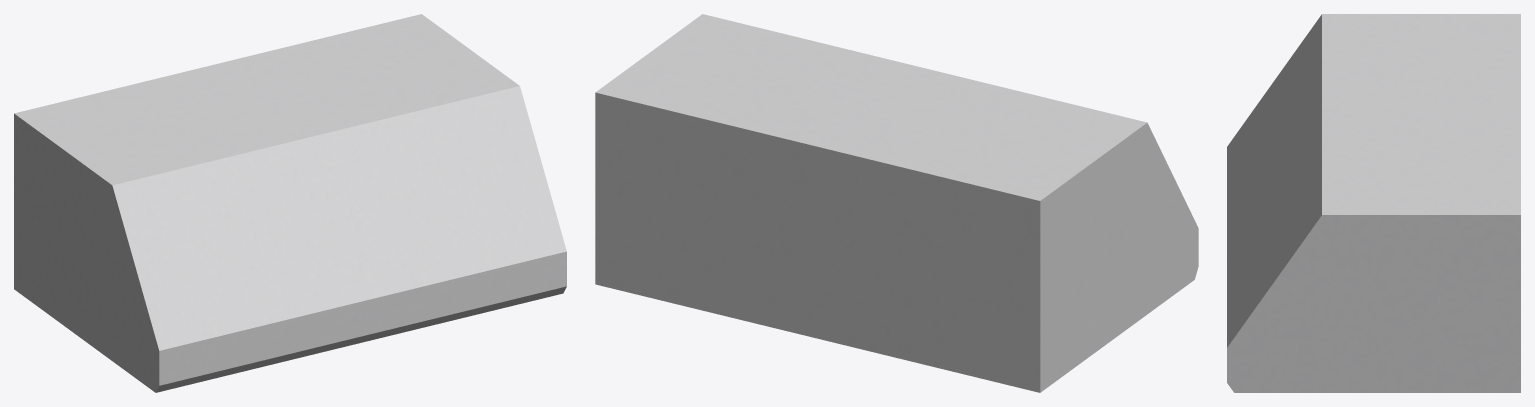
The model's file is KitchenExhaust05.fbx.
3 renders of one model, left to right at view 1: azimuth 30°, elevation 25°; view 2: azimuth 150°, elevation 25°; view 3: azimuth 270°, elevation 25°, orthographic. The views are drawn at different scales.
Visible parts, largest first — view 1: KitchenExhaust05; view 2: KitchenExhaust05; view 3: KitchenExhaust05.
Part boxes in pixels (box(x1,y1,x2,y2)): KitchenExhaust05: box(14, 14, 566, 392); KitchenExhaust05: box(595, 14, 1198, 392); KitchenExhaust05: box(1227, 14, 1520, 392).
Size of the model in its own units: 66.54 by 27.43 by 41.05.
